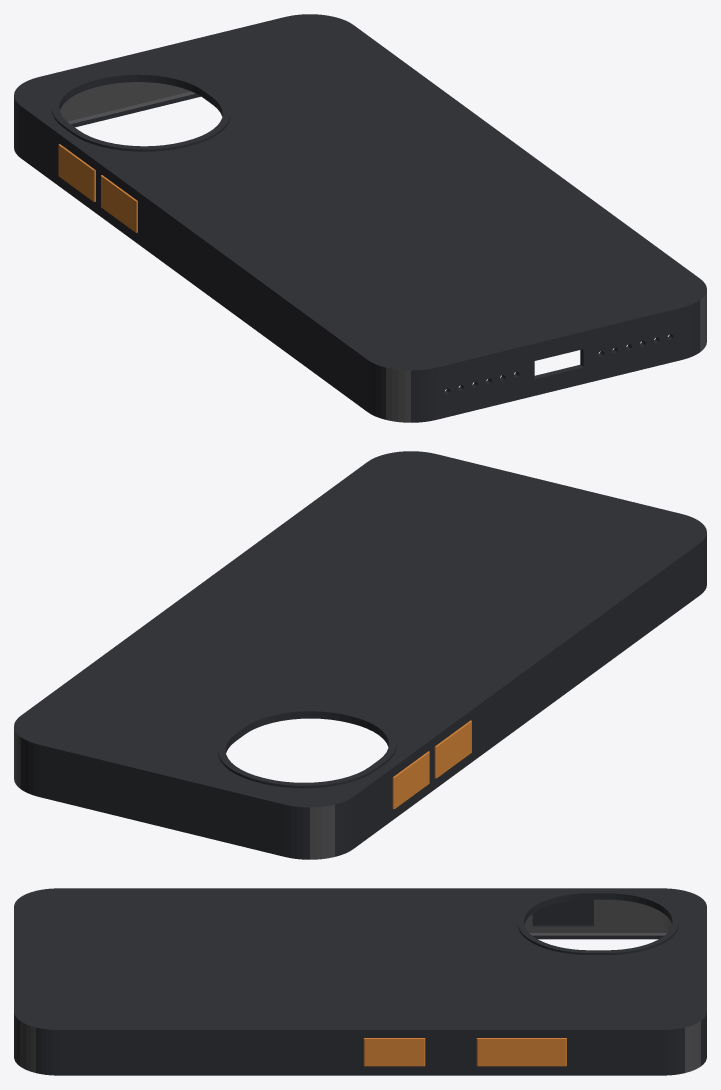
The model's file is kilif-rugged-duz-gece.glb.
3 views of the same model, one above another, from view 1: azimuth 30°, elevation 25°; view 2: azimuth 150°, elevation 25°; view 3: azimuth 270°, elevation 25° (orthographic). The views are drawn at different scales.
Parts seen in each view (by area): view 1: Kilif; view 2: Kilif; view 3: Kilif.
Part boxes in pixels (x1,y1,x2,y2): Kilif: (14,14,706,422); Kilif: (14,451,706,859); Kilif: (14,888,706,1075).
Bounding box in the file's own units: 0.0828 × 0.0129 × 0.1694.
